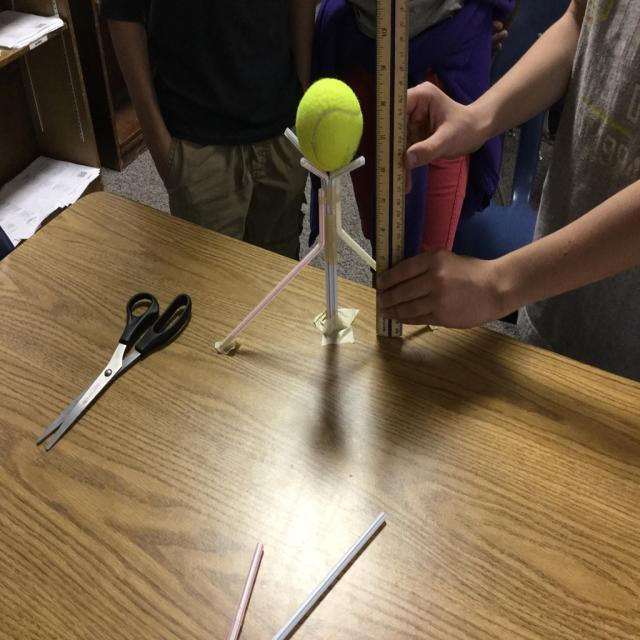scissors: (36, 290, 191, 452)
